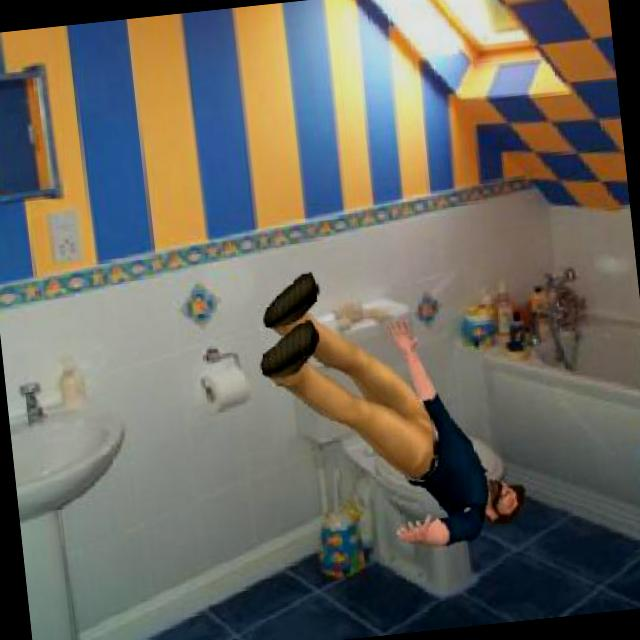Person: (248, 240, 532, 566)
